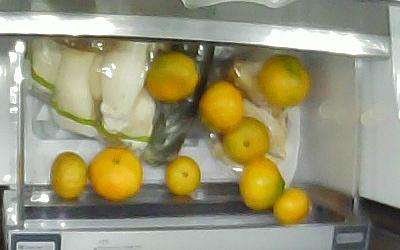tangerine: (86, 146, 143, 200), (256, 53, 311, 107), (143, 50, 198, 101), (196, 78, 244, 133), (237, 156, 285, 210), (221, 115, 269, 163), (49, 150, 87, 199), (163, 154, 201, 195), (272, 186, 311, 224)
